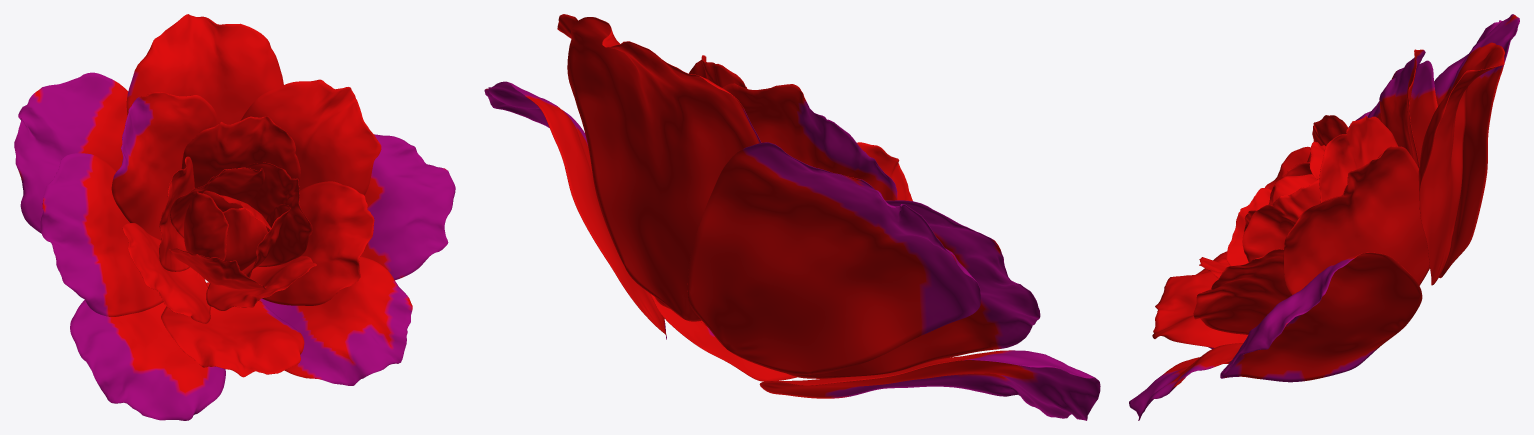
File: test_FLOWER_static.glb
3 views of the same model, side by side, from view 1: azimuth 30°, elevation 25°; view 2: azimuth 150°, elevation 25°; view 3: azimuth 270°, elevation 25° (orthographic). The views are drawn at different scales.
Parts seen in each view (by area): view 1: geo2; view 2: geo2; view 3: geo2.
Boxes of the visible parts, <box> form: geo2: <box>14,14,455,420</box>; geo2: <box>484,14,1100,420</box>; geo2: <box>1129,14,1519,420</box>.
Bounding box in the file's own units: 1.88 × 1.37 × 1.34.
